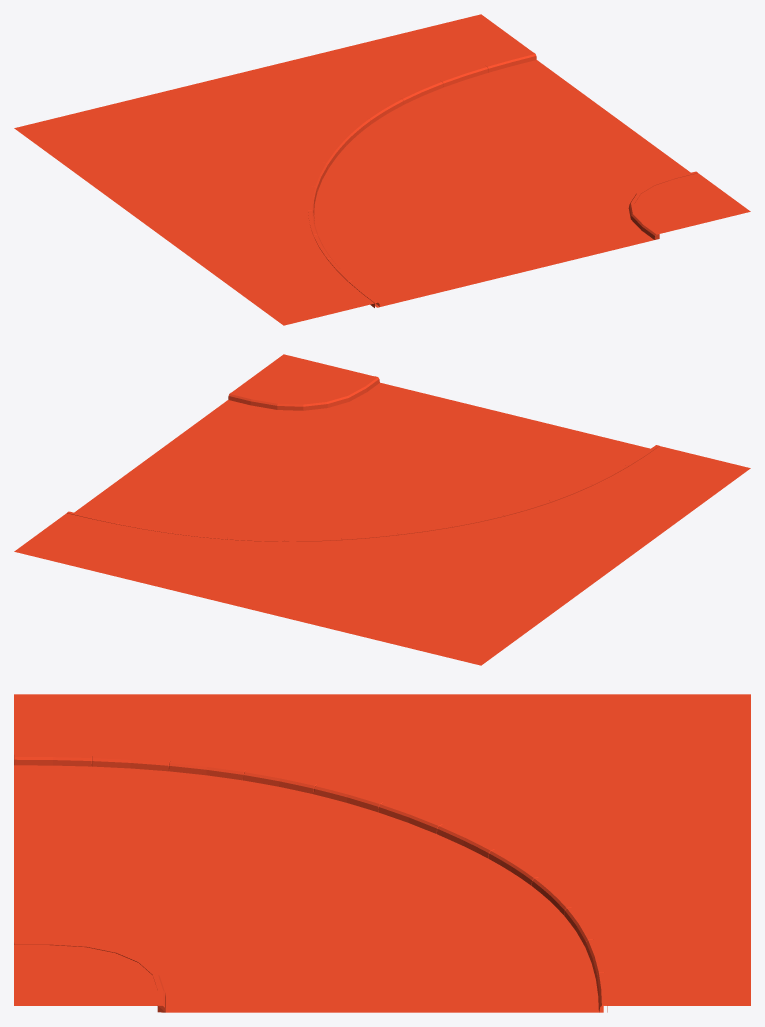
File: SM_Road_Turn_10x10_City.fbx
3 views of the same model, one above another, from view 1: azimuth 30°, elevation 25°; view 2: azimuth 150°, elevation 25°; view 3: azimuth 270°, elevation 25° (orthographic). The views are drawn at different scales.
Parts seen in each view (by area): view 1: SM_Road_Turn_10x10_City; view 2: SM_Road_Turn_10x10_City; view 3: SM_Road_Turn_10x10_City.
Boxes of the visible parts, box(x1,y1,x2,y2) form: SM_Road_Turn_10x10_City: box(14, 14, 750, 325); SM_Road_Turn_10x10_City: box(14, 354, 750, 665); SM_Road_Turn_10x10_City: box(14, 694, 750, 1012).
Size of the model in its own units: 10 by 0.1163 by 10.
